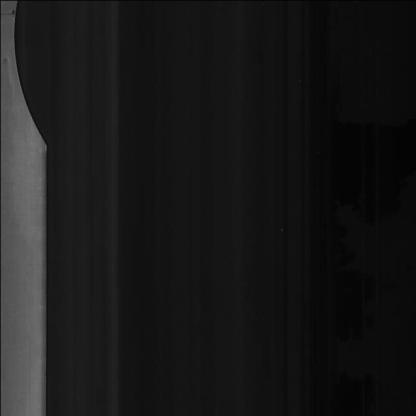crescent_gap: (9, 1, 60, 163)
